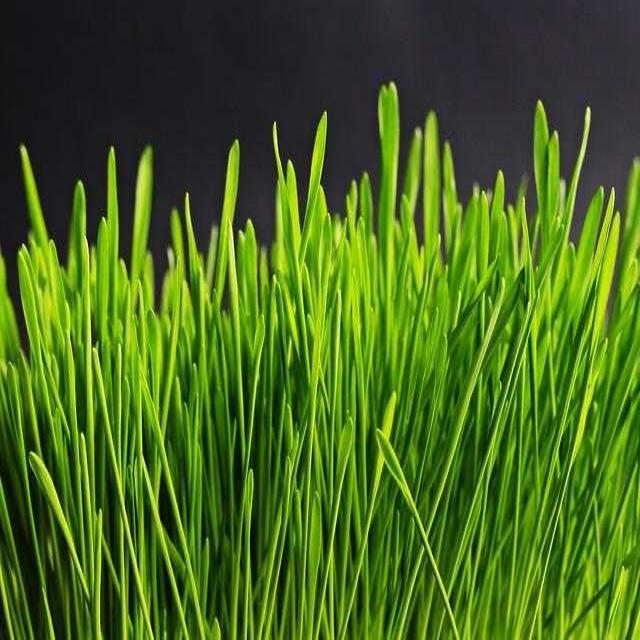lawn: (0, 85, 640, 640)
